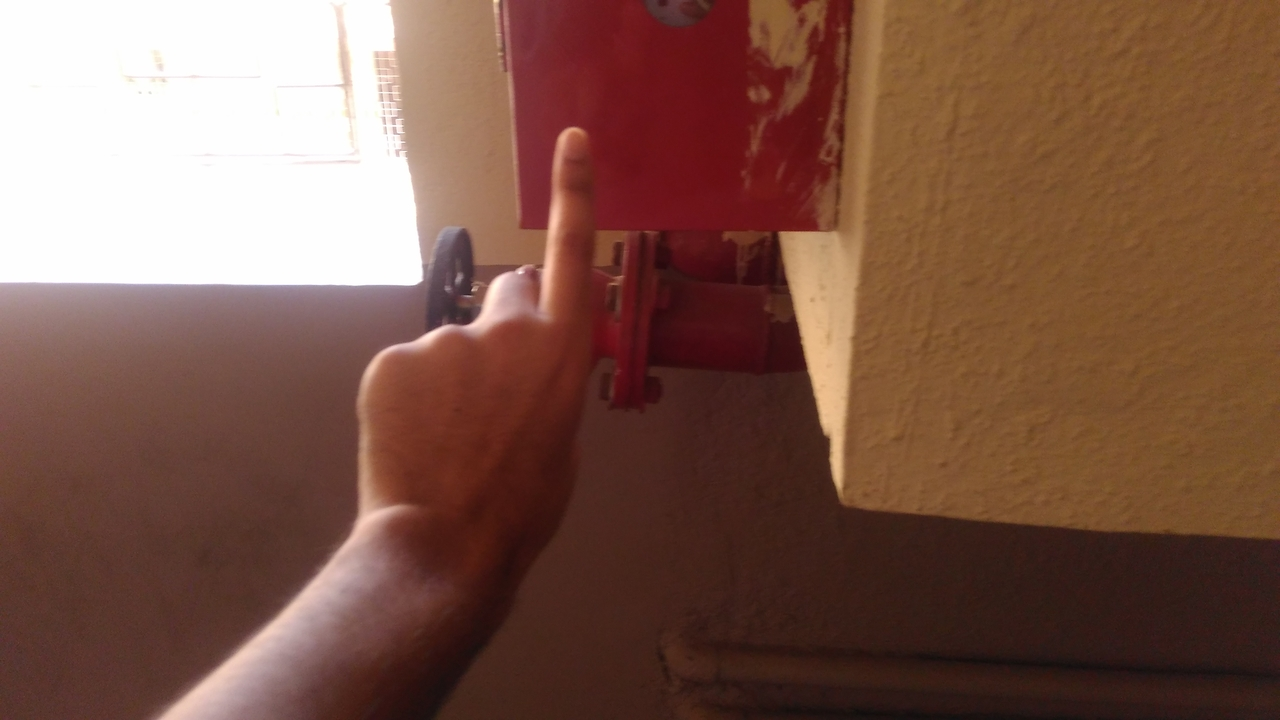fingertip: (542, 118, 596, 162)
